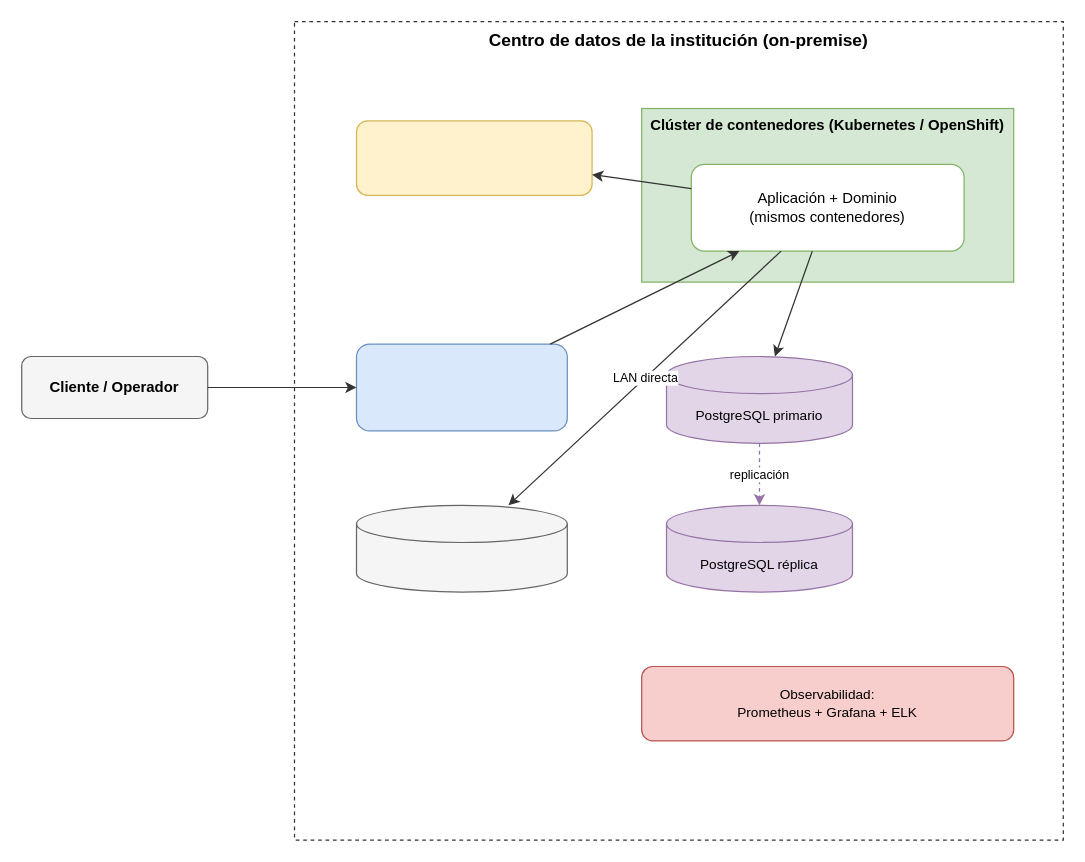
Some shapes in this 1085 by 862 pixel diagram are drawn without their labels. The centre of each missing label's shape, as x and y in pixels:
"Active Directory / LDAP + OIDC (Keycloak)" goes at point (473, 157).
"Balanceador NGINX / HAProxy / F5" goes at point (461, 387).
"Sistemas legacy (misma LAN)" goes at point (461, 548).
